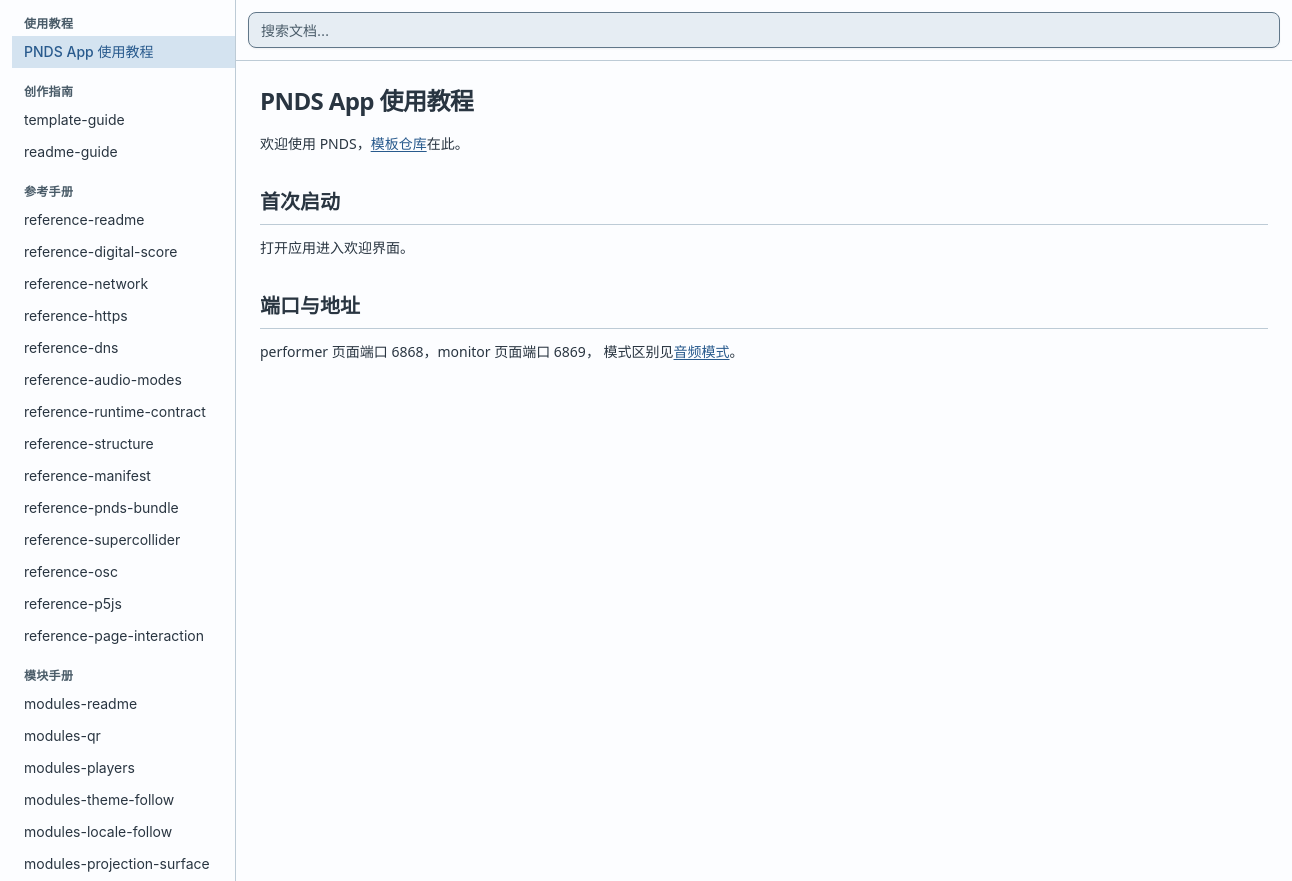
Test case: HelpCenterApp (#56) › hot-swaps the corpus and the search index when the language switches (#68)
The image size is (1292, 881).
Expected: the heading "PNDS App 使用教程" is shown, [260,84,473,117]
In the field with placeholder "搜索文档…": (764, 30) [248,12,1280,48], type "端口"
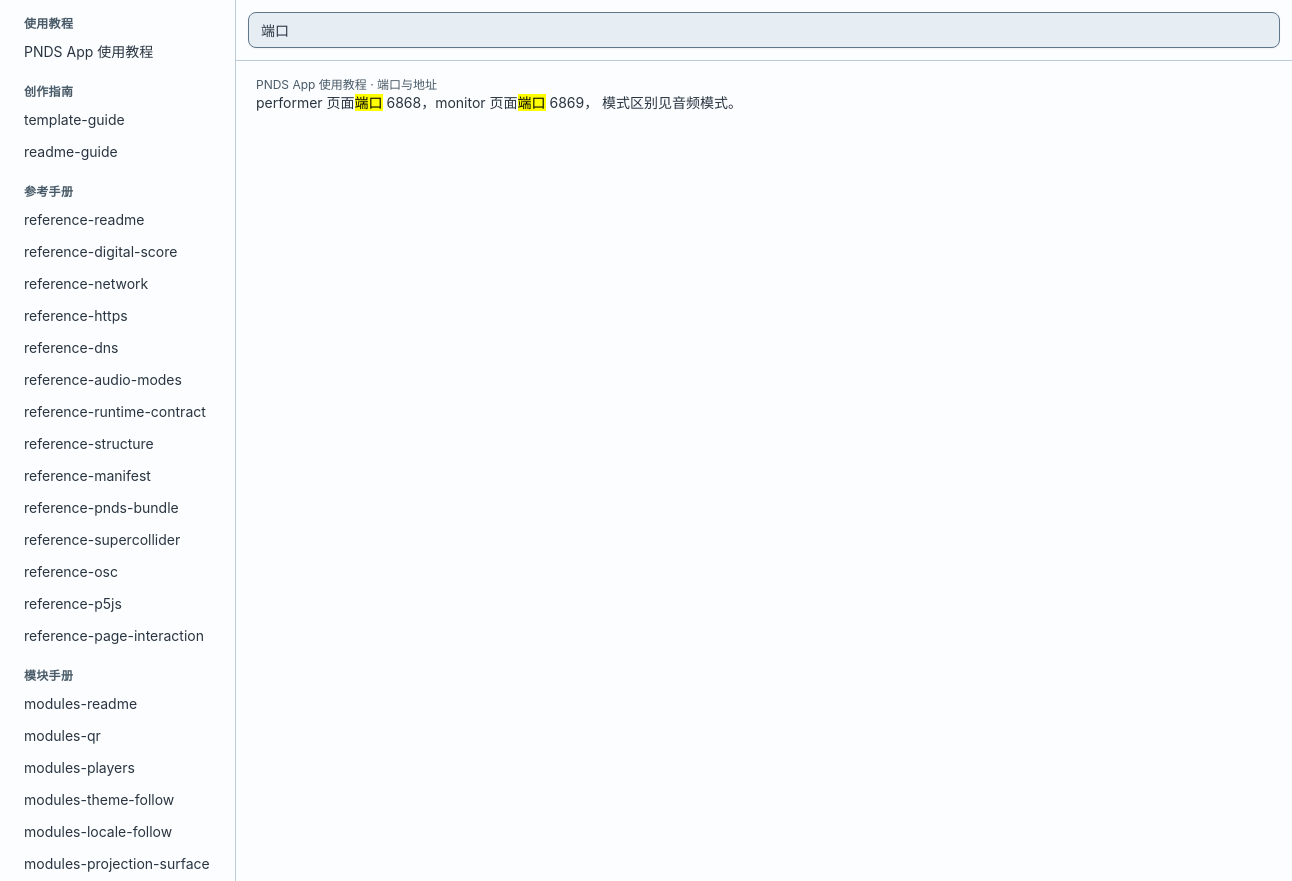
Expected: the button "端口与地址" is shown, [244,69,1284,121]
